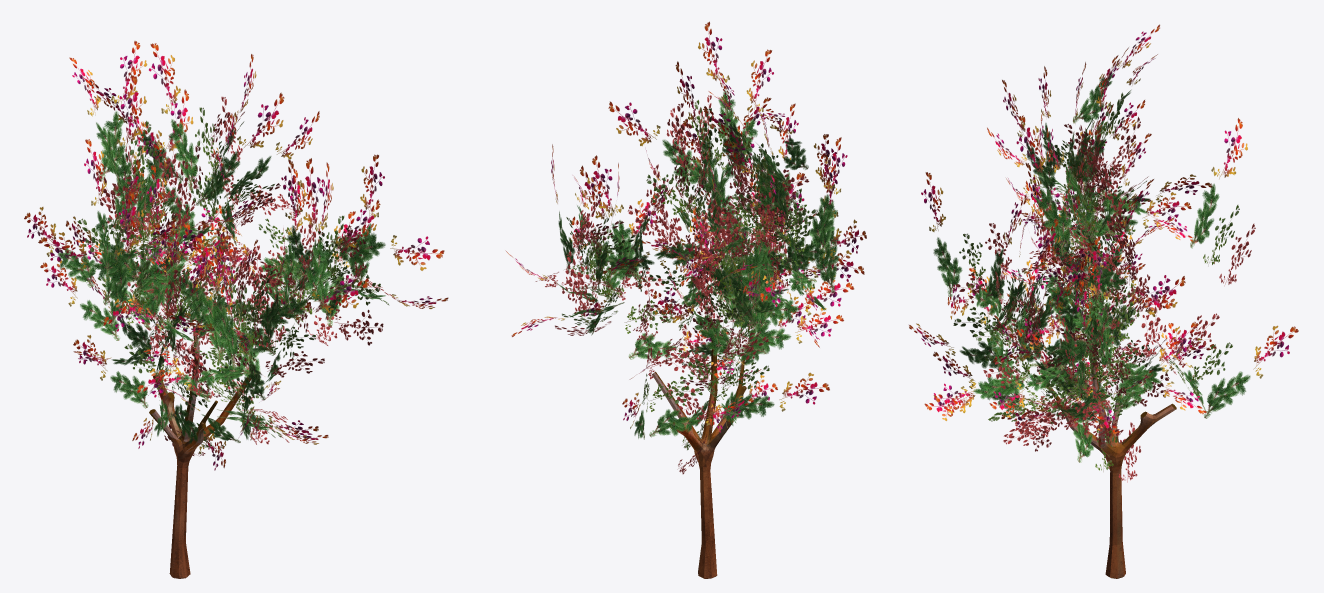
File: Autumn tree 01.glb
3 views of the same model, side by side, from view 1: azimuth 30°, elevation 25°; view 2: azimuth 150°, elevation 25°; view 3: azimuth 270°, elevation 25° (orthographic). The views are drawn at different scales.
Parts seen in each view (by area): view 1: Autumn leaf 01, Autumn tree 01; view 2: Autumn leaf 01, Autumn tree 01; view 3: Autumn leaf 01, Autumn tree 01.
Boxes of the visible parts, box(x1,y1,x2,y2) form: Autumn leaf 01: box(24, 41, 448, 470); Autumn tree 01: box(149, 325, 251, 578); Autumn leaf 01: box(505, 21, 866, 474); Autumn tree 01: box(652, 321, 746, 578); Autumn leaf 01: box(909, 24, 1298, 482); Autumn tree 01: box(1048, 329, 1176, 578).
Size of what is drawn, in the model's own units: 8.53 by 11.03 by 7.69.
2 materials, 2 textured.
